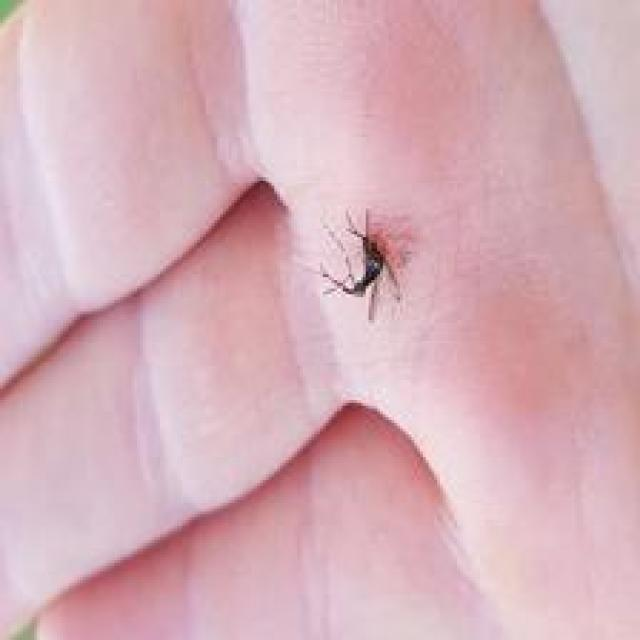Aedes albopictus: (317, 207, 409, 322)
